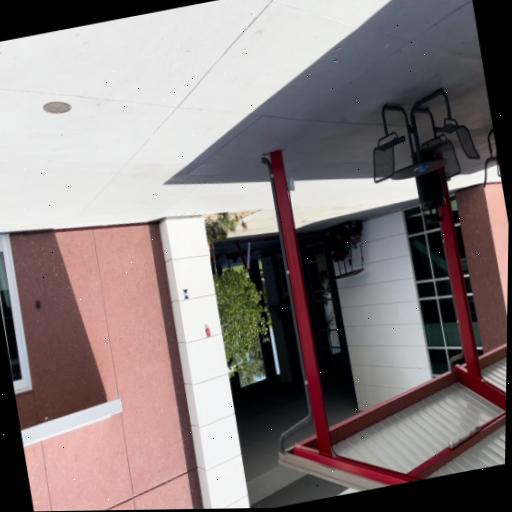target9: (182, 287, 190, 299)
